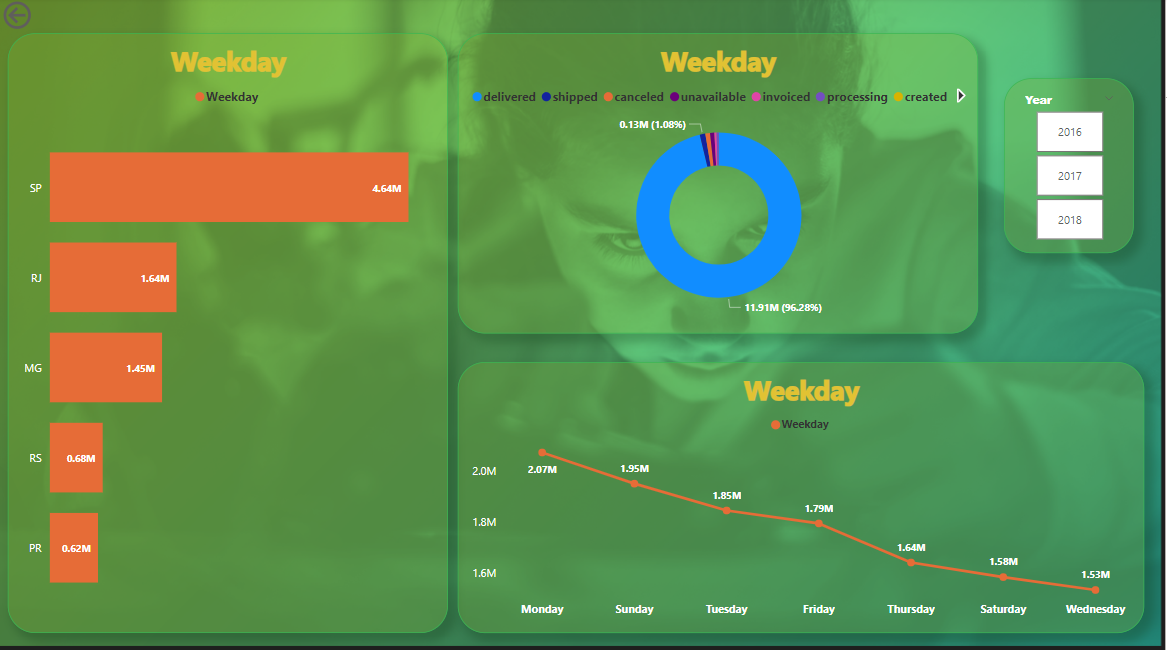

What the dashboard file says about the page in this screenshot:
{"tool":"tableau","page":{"name":"Dashboard 2","canvas":[1000,1000],"units":"permille","ordinal":1},"visuals":[{"type":"blank","box":[0,0,1000,17.6]},{"type":"dashboard-object","box":[0,17.6,55.8,117.5]},{"type":"image","param":"C:/Users/afrin/Downloads/creditreviw.png","box":[55.8,17.6,94.8,117.5]},{"type":"text","box":[150.6,17.6,793.6,117.5]},{"type":"dashboard-object","box":[944.2,17.6,55.8,117.5]},{"type":"blank","box":[0,135.1,1000,17.6]},{"type":"worksheet","title":"KPI-2.2","mark":"Line","rows":["payment_value"],"cols":["order_purchase_timestamp"],"box":[0,152.8,1000,325.5]},{"type":"worksheet","title":"KPI-2.1","mark":"Automatic","rows":["payment_value"],"cols":["review_score"],"box":[0,478.3,500.3,521.7]},{"type":"worksheet","title":"KPI-2.3","mark":"Pie","rows":["Calculation_910571565098094599","Calculation_910571565098110985"],"box":[500.3,478.3,499.7,521.7]}]}

Visuals, with their boxes on the dashboard's canvas, which has no fixed pixel size, in thousandths of its width and height (x1, y1, x2, y2). These are canvas units, not pixel positions in the 1167x650 screenshot, which may show the page scaled, cropped or inside an application window:
blank: {"left": 0, "top": 0, "right": 1000, "bottom": 18}
dashboard-object: {"left": 0, "top": 18, "right": 56, "bottom": 135}
image: {"left": 56, "top": 18, "right": 151, "bottom": 135}
text: {"left": 151, "top": 18, "right": 944, "bottom": 135}
dashboard-object: {"left": 944, "top": 18, "right": 1000, "bottom": 135}
blank: {"left": 0, "top": 135, "right": 1000, "bottom": 153}
"KPI-2.2" worksheet (Line marks): {"left": 0, "top": 153, "right": 1000, "bottom": 478}
"KPI-2.1" worksheet: {"left": 0, "top": 478, "right": 500, "bottom": 1000}
"KPI-2.3" worksheet (Pie marks): {"left": 500, "top": 478, "right": 1000, "bottom": 1000}
